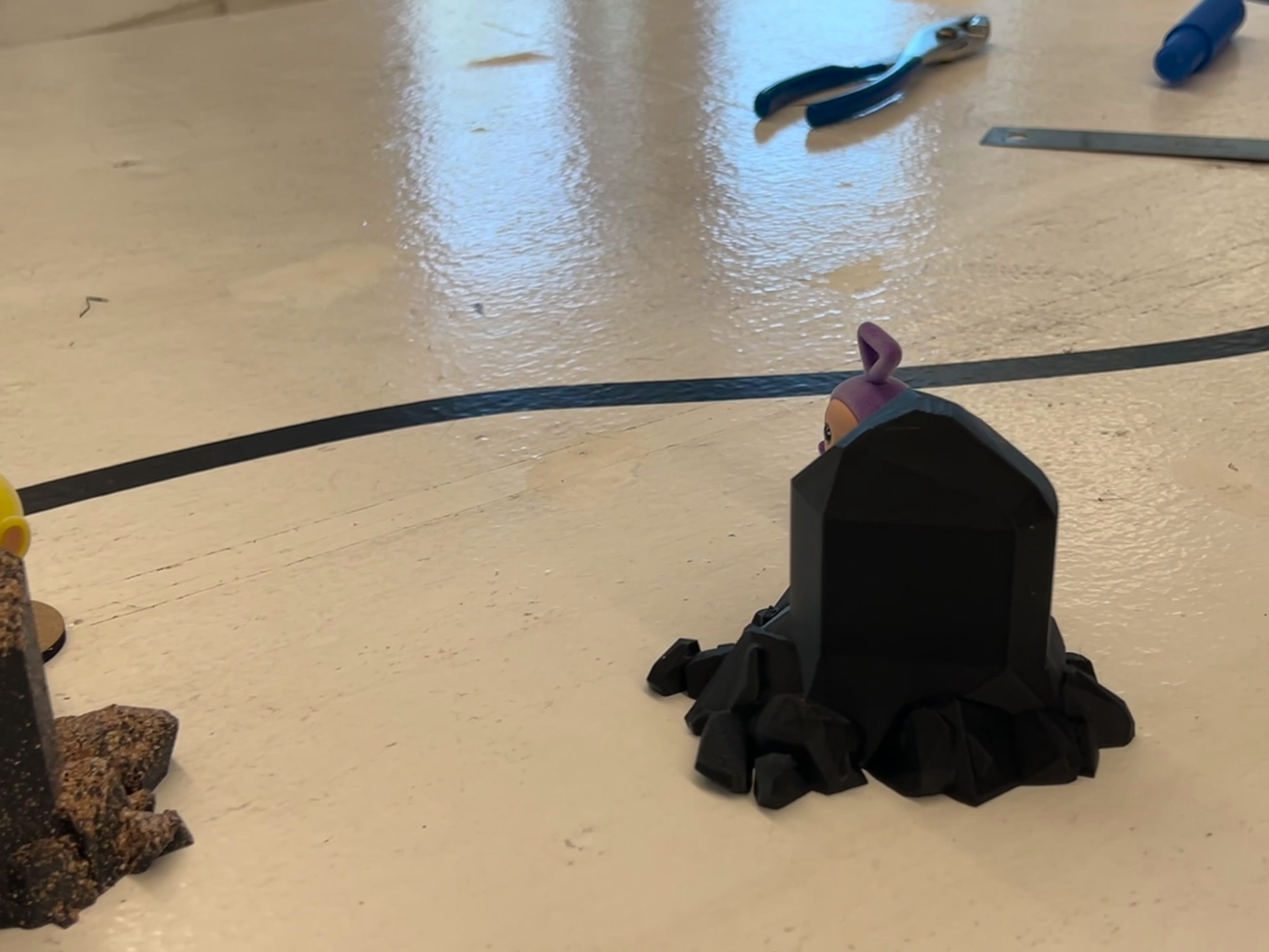teletubby: (819, 322, 908, 454), (0, 476, 29, 557)
